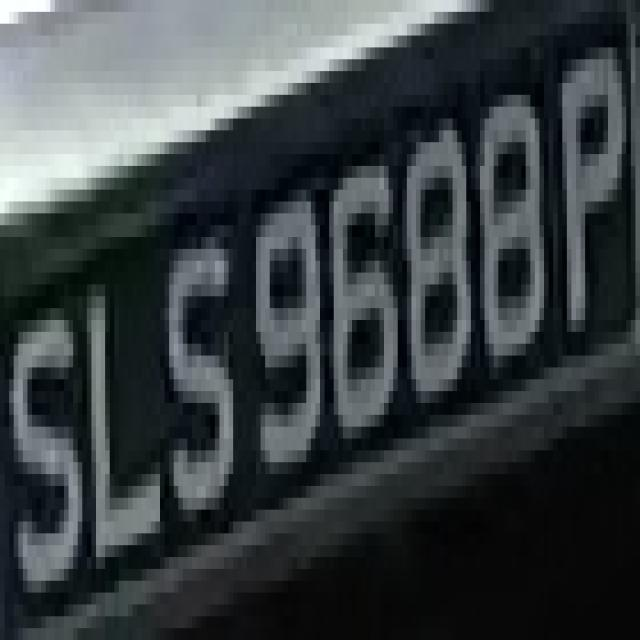6: (324, 119, 398, 474)
8: (462, 59, 558, 415), (398, 118, 475, 426)
9: (242, 154, 329, 522)
L: (68, 213, 151, 581)
P: (544, 35, 631, 344)
S: (146, 214, 238, 546), (5, 296, 91, 616)
